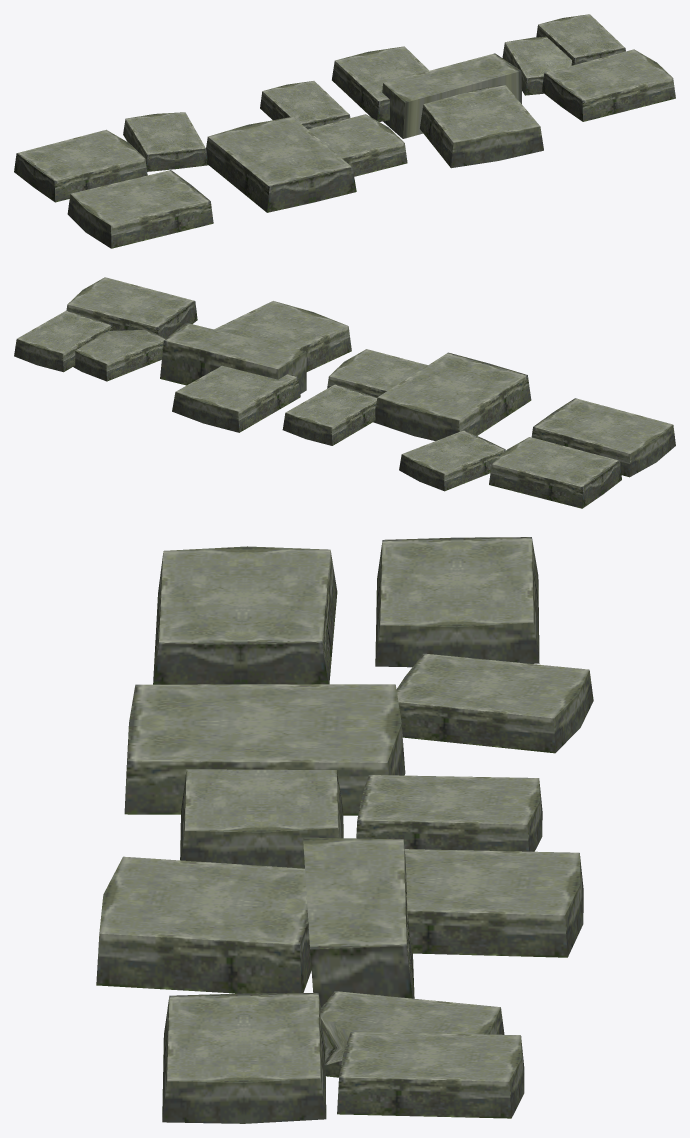
File: xsz_cuishi_3.FBX
3 views of the same model, one above another, from view 1: azimuth 30°, elevation 25°; view 2: azimuth 150°, elevation 25°; view 3: azimuth 270°, elevation 25° (orthographic). The views are drawn at different scales.
Visible parts, largest first — view 1: xsz_cuishi_3; view 2: xsz_cuishi_3; view 3: xsz_cuishi_3.
Boxes of the visible parts, x1,y1,x2,y2 form: xsz_cuishi_3: [14, 14, 675, 248]; xsz_cuishi_3: [14, 277, 675, 508]; xsz_cuishi_3: [96, 537, 593, 1123].
Bounding box in the file's own units: 27.46 × 10.35 × 1.89.
